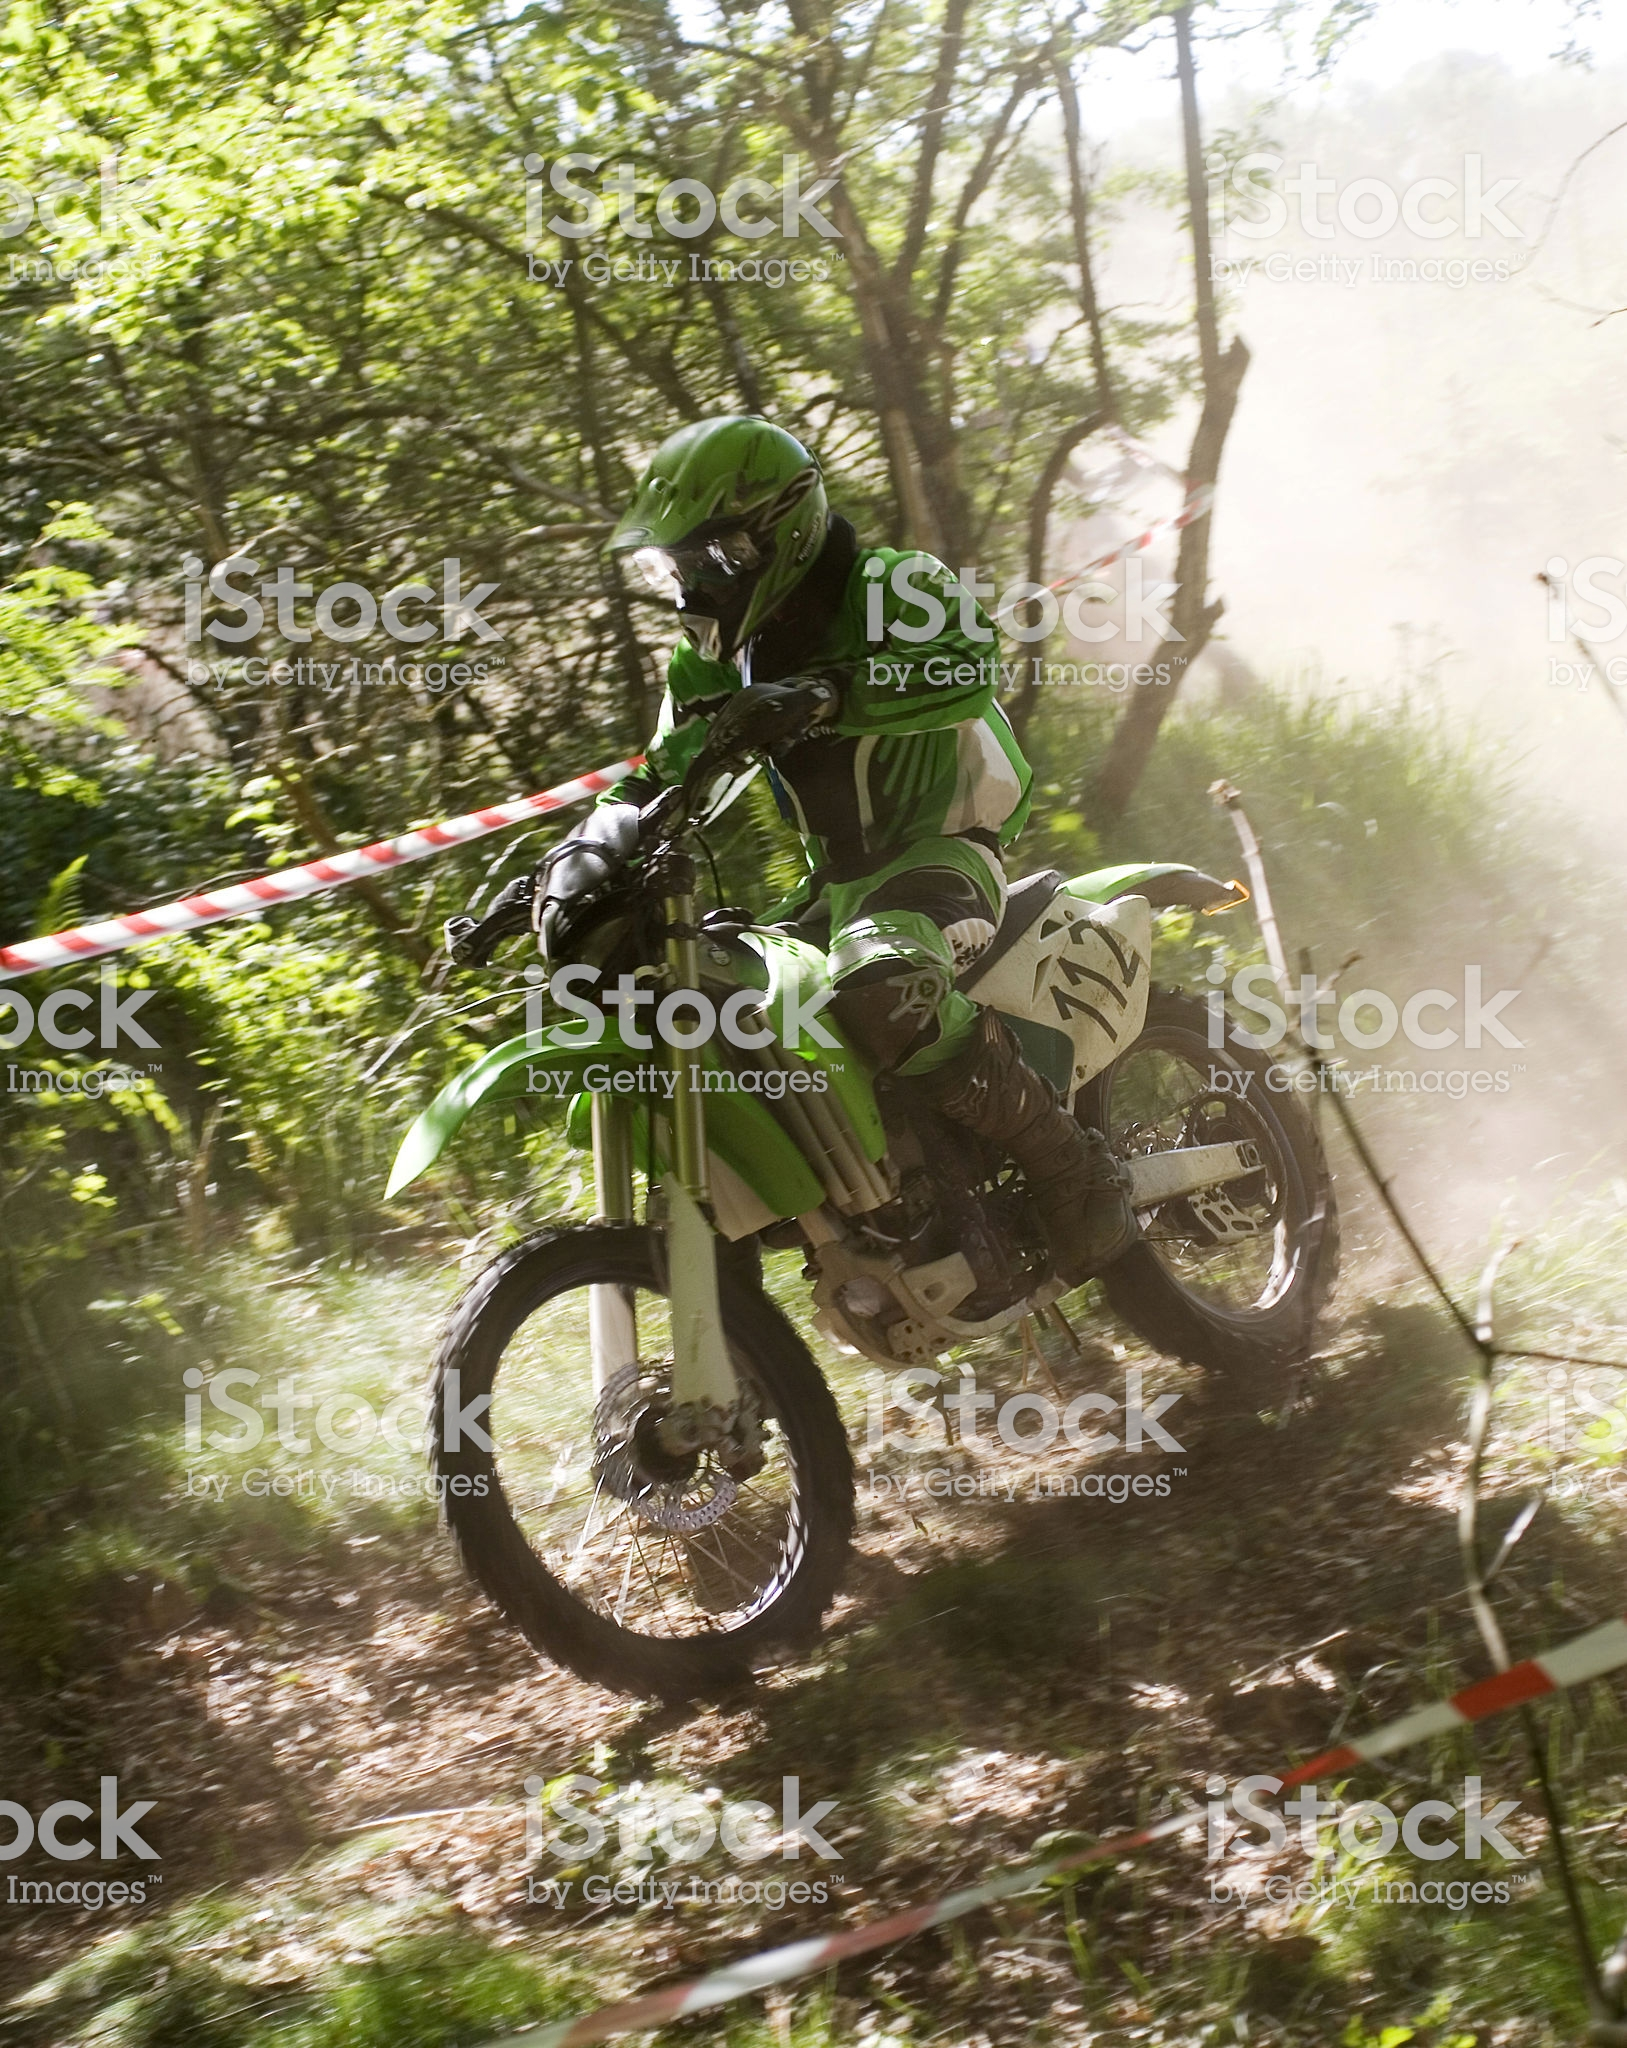helmet: (592, 402, 838, 642)
